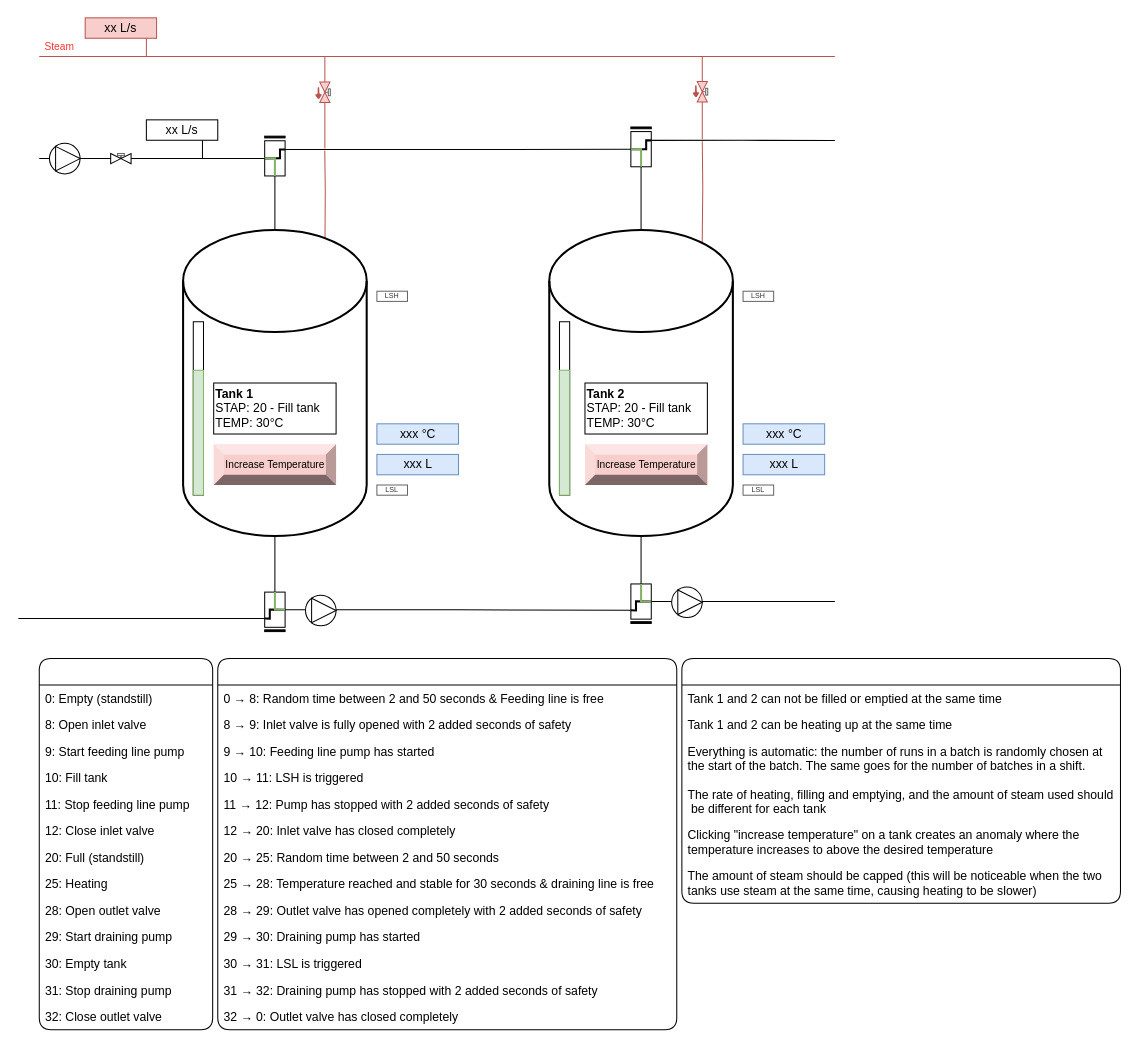
Image size: 1138x1051. Some labels were removed from this diagram. The box of each missing label's shape, as (x1, y1, x2, y2) in pixels:
Notes: (681, 657, 1120, 903)
TANK STEPS: (38, 657, 213, 1030)
TANK TRANSITIONS: (217, 657, 677, 1030)
